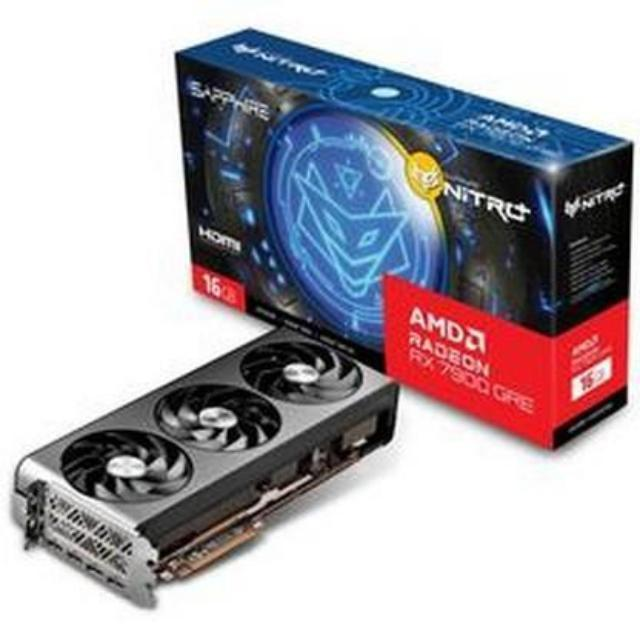GPU: (4, 321, 402, 607)
